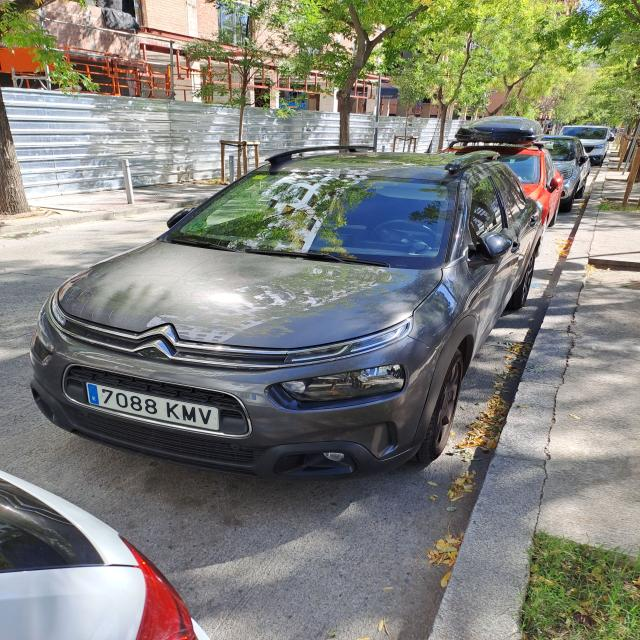license_plate-34Td: (86, 383, 220, 431)
